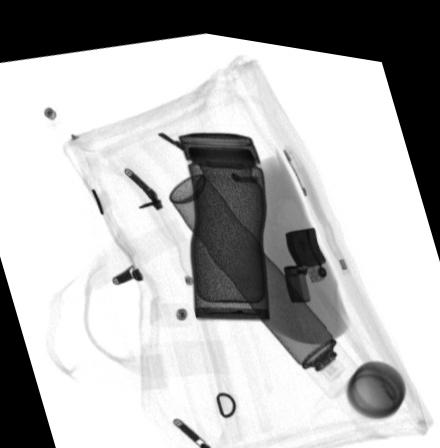Lighter: (283, 217, 328, 292)
Sprayer: (169, 166, 363, 387)
